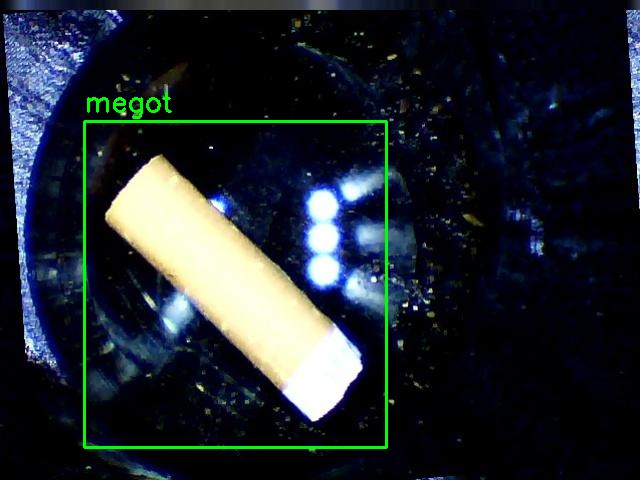megot: (84, 121, 386, 447)
